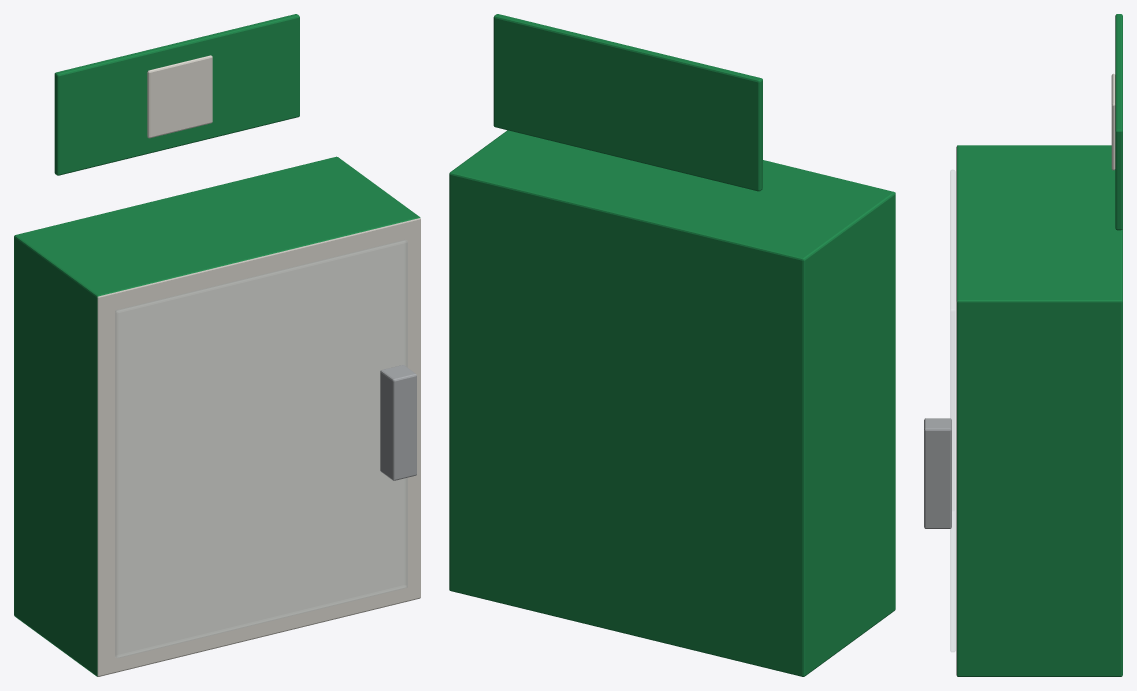
File: PROP_Cabinet_AED_Wall.glb
The picture shows the model from 3 angles, left to right: view 1: azimuth 30°, elevation 25°; view 2: azimuth 150°, elevation 25°; view 3: azimuth 270°, elevation 25°; orthographic projection. The views are drawn at different scales.
Parts seen in each view (by area): view 1: PROP_Cabinet_AED_Wall_Mesh; view 2: PROP_Cabinet_AED_Wall_Mesh; view 3: PROP_Cabinet_AED_Wall_Mesh.
Part boxes in pixels (left/top/right/bottom): PROP_Cabinet_AED_Wall_Mesh: left=14, top=14, right=420, bottom=676; PROP_Cabinet_AED_Wall_Mesh: left=449, top=14, right=895, bottom=676; PROP_Cabinet_AED_Wall_Mesh: left=924, top=14, right=1122, bottom=676.
Bounding box in the file's own units: 0.4 × 0.63 × 0.215.
